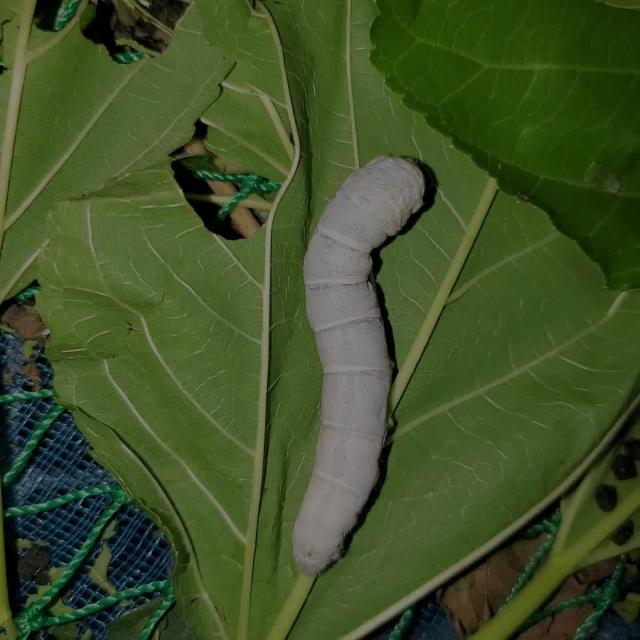Healthy: (258, 117, 482, 603)
